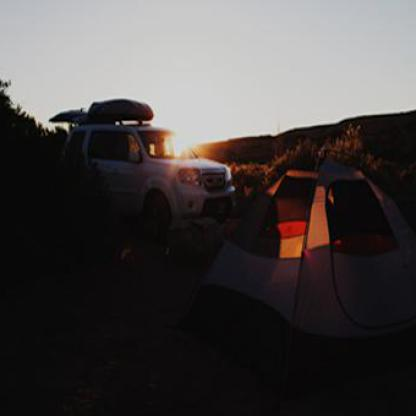car: (48, 97, 236, 231)
